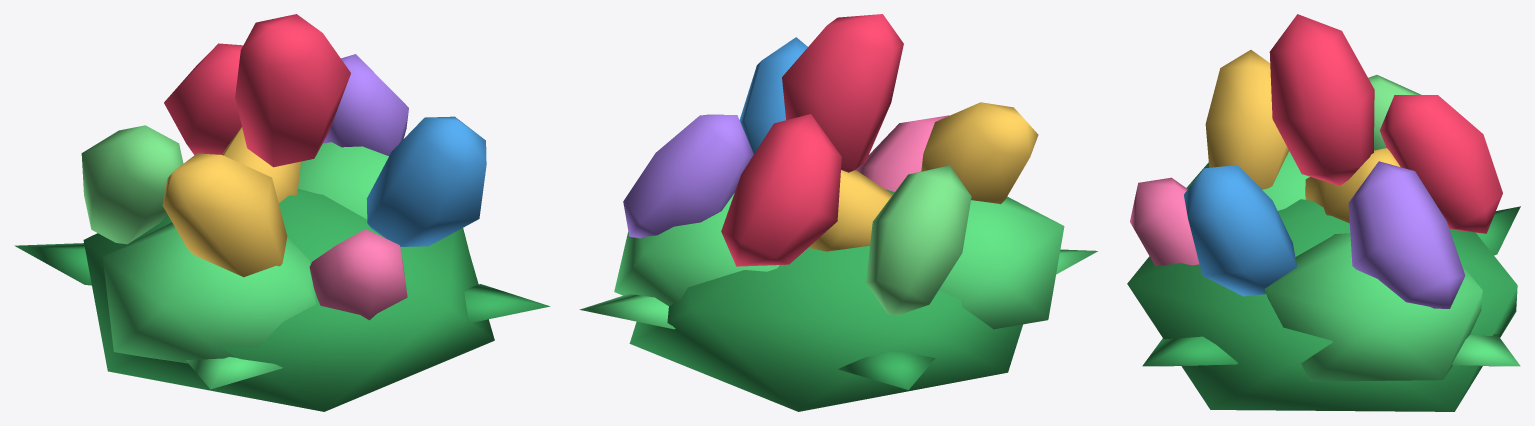
Rendered from crop_100beans.glb.
3 renders of one model, left to right at view 1: azimuth 30°, elevation 25°; view 2: azimuth 150°, elevation 25°; view 3: azimuth 270°, elevation 25°, orthographic. The views are drawn at different scales.
Visible parts, largest first — view 1: crop_100beans; view 2: crop_100beans; view 3: crop_100beans.
Part boxes in pixels (x1,y1,x2,y2): crop_100beans: (14, 14, 550, 411); crop_100beans: (579, 14, 1097, 411); crop_100beans: (1127, 14, 1520, 411).
Size of the model in its own units: 0.4596 by 0.4335 by 0.4289.
